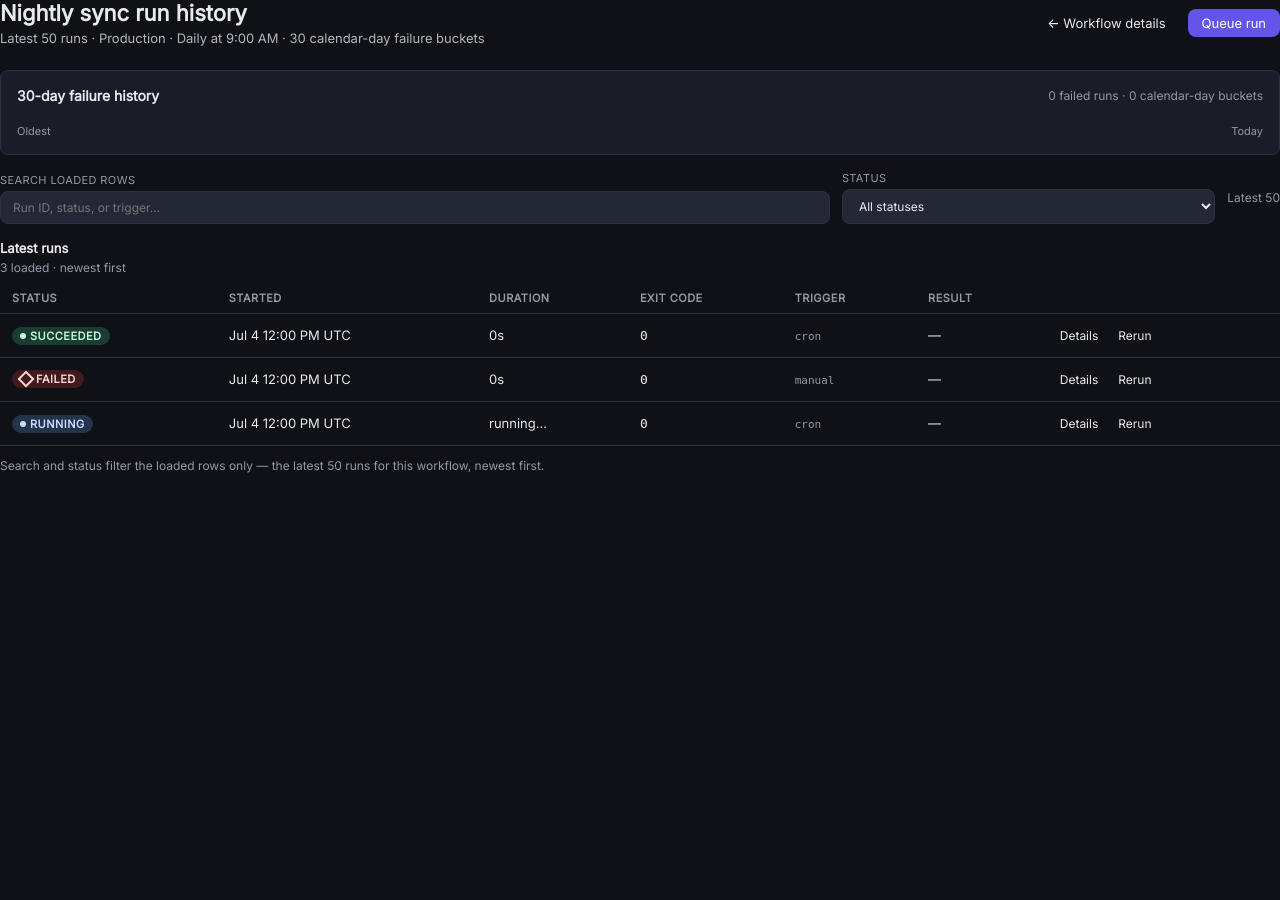
RunHistory (workflow-scoped) › surfaces the admission outcome when a queued rerun is accepted
Click the button with aria-label "Rerun failed run started" at (1135, 379), box [1108,368,1162,390]
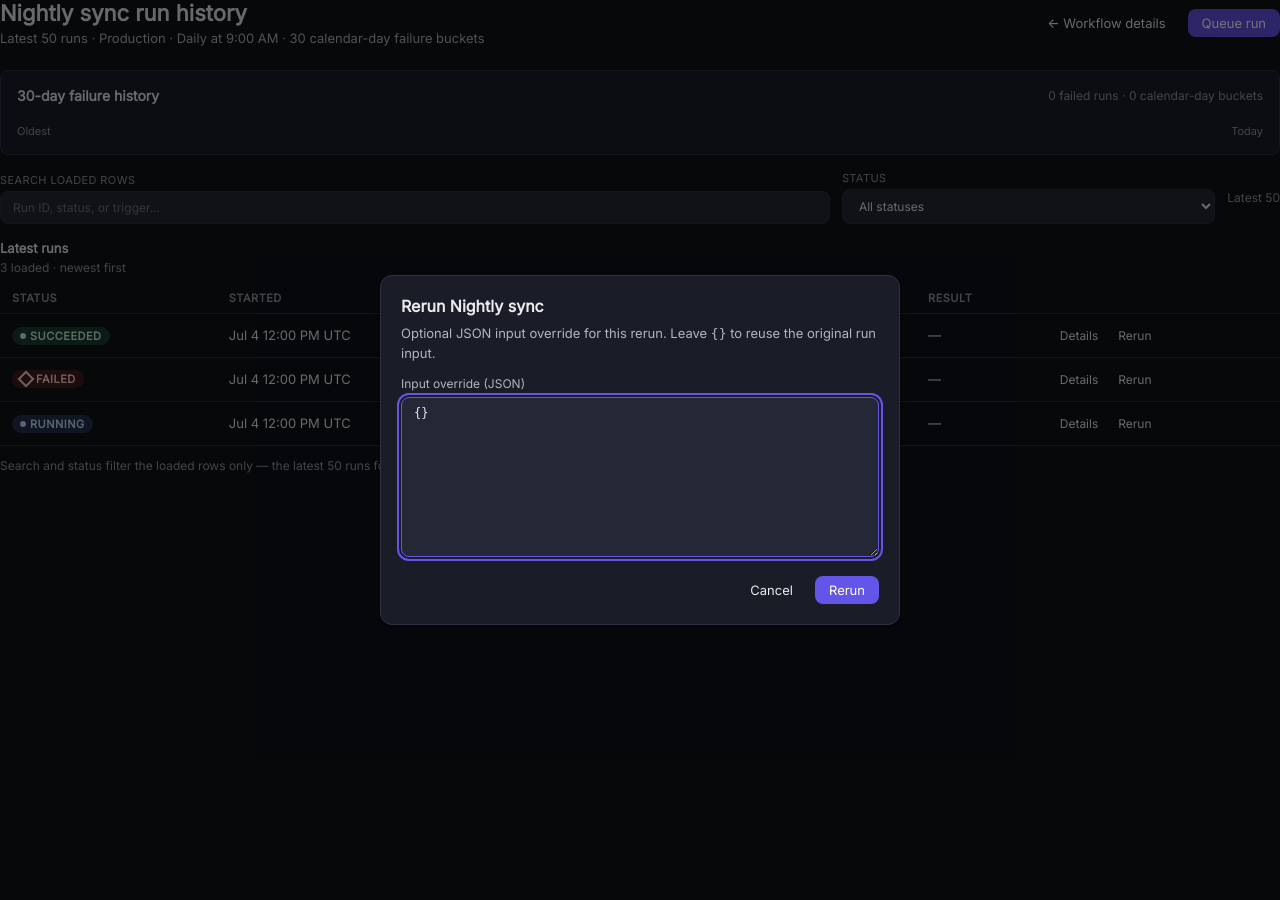
Click the button "Rerun" at (847, 590), box [815,576,879,604]
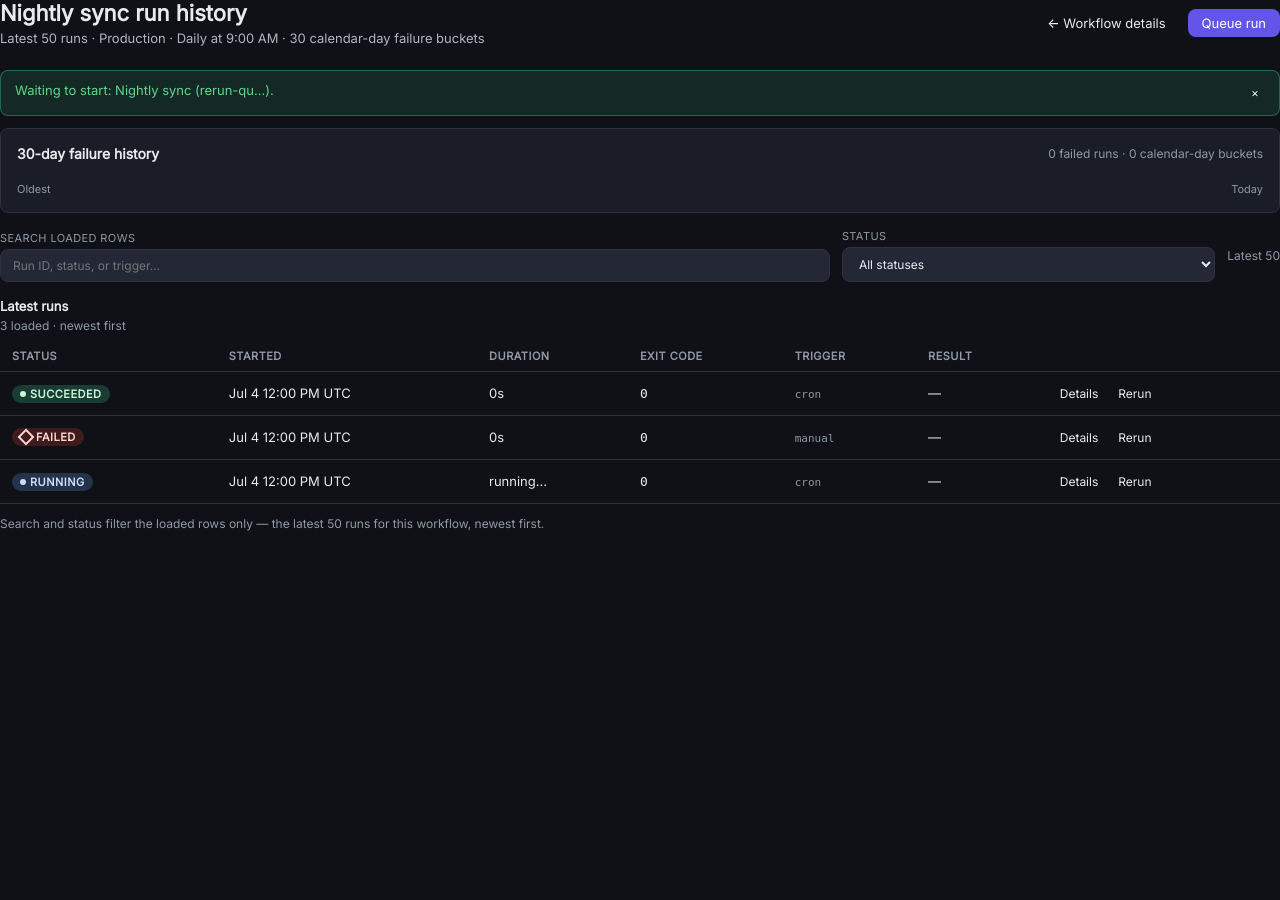
Expected: the text "Waiting to start: Nightly sync (rerun-qu…)." is shown, [15,82,274,98]
